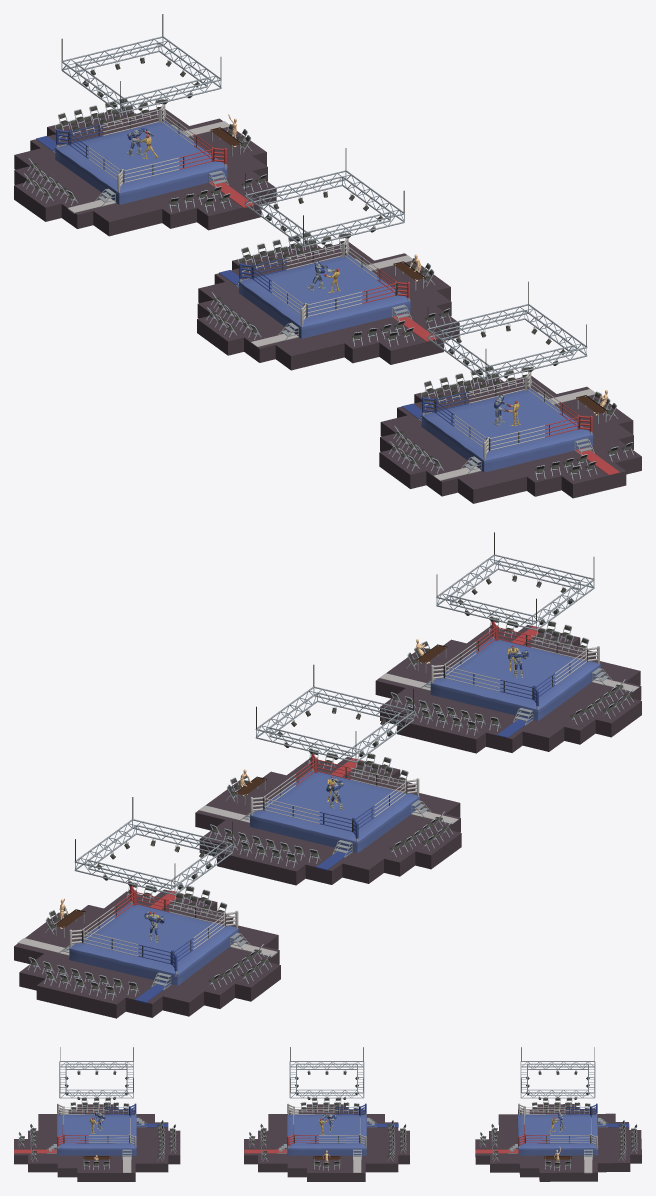
File: ROBOBOXINGCLUB_Final.fbx
The picture shows the model from 3 angles, top to bottom: view 1: azimuth 30°, elevation 25°; view 2: azimuth 150°, elevation 25°; view 3: azimuth 270°, elevation 25°; orthographic projection. The views are drawn at different scales.
Visible parts, largest first — view 1: Plane.018, Plane.037, Plane.038, Cube.060, Cube.130, Cube.138, Cube.304, Cube.303, Cube.066, Cylinder.304, Cylinder.698, Cylinder.634 (+9 smaller); view 2: Plane.038, Plane.037, Plane.018, Cube.138, Cube.060, Cube.130, Cube.304, Cube.303, Cube.066, Cylinder.304, Cylinder.634, Cylinder.698 (+9 smaller); view 3: Plane.037, Plane.018, Plane.038, Cube.138, Cube.060, Cube.130, Cube.303, Cube.304, Cube.066, Cylinder.304, Cylinder.698, Cylinder.634 (+12 smaller).
Boxes of the visible parts, x1,y1,x2,y2 form: Plane.018: [379, 376, 641, 503]; Plane.037: [197, 242, 459, 370]; Plane.038: [14, 108, 276, 236]; Cube.060: [421, 388, 593, 472]; Cube.130: [238, 255, 410, 338]; Cube.138: [55, 120, 227, 204]; Cube.304: [23, 98, 267, 212]; Cube.303: [206, 232, 451, 346]; Cube.066: [388, 366, 633, 480]; Cylinder.304: [427, 304, 587, 380]; Cylinder.698: [61, 36, 221, 113]; Cylinder.634: [244, 170, 404, 247]; Plane.038: [14, 889, 280, 1018]; Plane.037: [195, 756, 461, 885]; Plane.018: [375, 624, 641, 753]; Cube.138: [69, 903, 238, 985]; Cube.060: [430, 638, 600, 720]; Cube.130: [250, 770, 419, 853]; Cube.304: [28, 882, 271, 1000]; Cube.303: [209, 749, 453, 867]; Cube.066: [389, 617, 633, 735]; Cylinder.304: [436, 554, 594, 630]; Cylinder.634: [255, 686, 413, 762]; Cylinder.698: [74, 819, 232, 895]; Plane.037: [244, 1104, 409, 1181]; Plane.018: [14, 1104, 180, 1181]; Plane.038: [475, 1104, 641, 1181]; Cube.138: [517, 1114, 598, 1155]; Cube.060: [57, 1114, 136, 1155]; Cube.130: [287, 1114, 366, 1155]; Cube.303: [248, 1097, 406, 1170]; Cube.304: [479, 1097, 637, 1170]; Cube.066: [18, 1097, 176, 1169]; Cylinder.304: [59, 1061, 133, 1098]; Cylinder.698: [520, 1061, 595, 1098]; Cylinder.634: [289, 1061, 364, 1098].
Bounding box in the file's own units: 5541 × 3195 × 21367.
